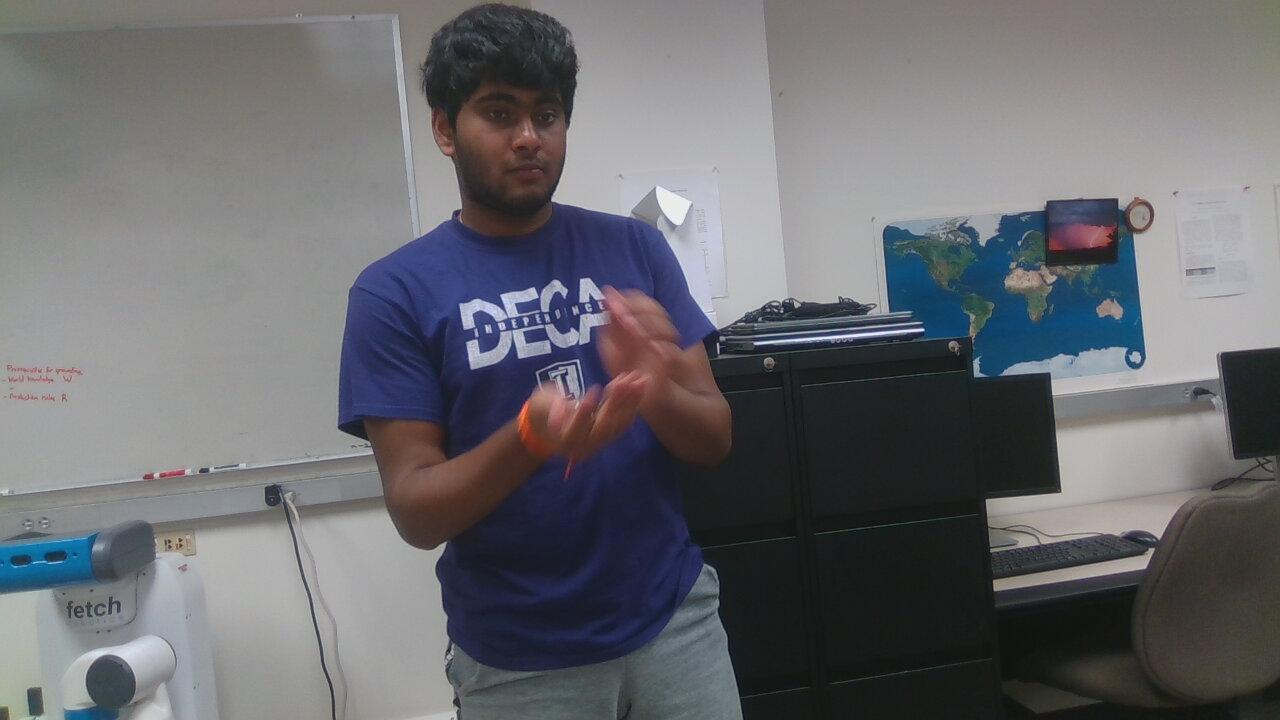hands: (526, 377, 660, 469), (596, 275, 672, 377)
